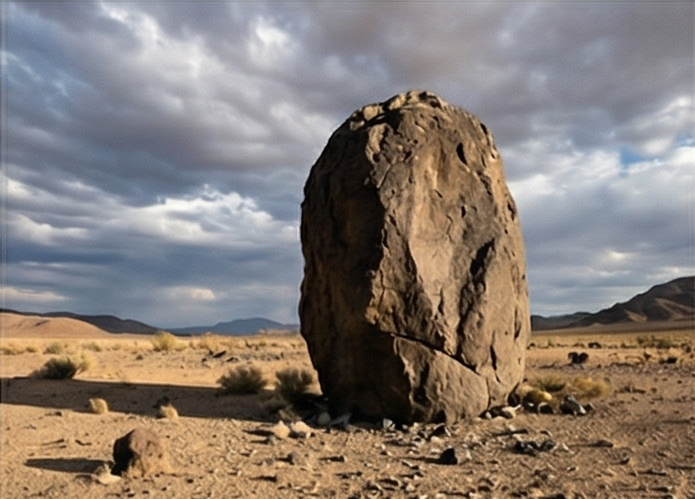rocks: (293, 90, 532, 424), (111, 424, 171, 478), (436, 446, 457, 465), (281, 448, 303, 465)
